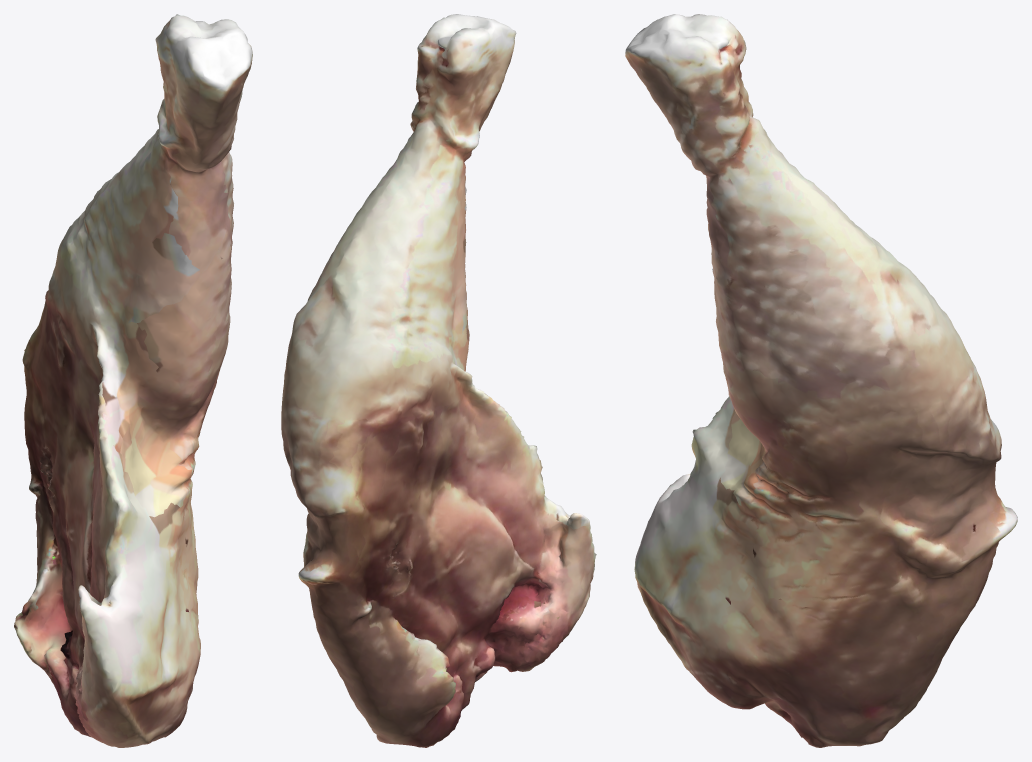
Rendered from Huhn_Schenkel_low.fbx.
3 renders of one model, left to right at view 1: azimuth 30°, elevation 25°; view 2: azimuth 150°, elevation 25°; view 3: azimuth 270°, elevation 25°, orthographic. The views are drawn at different scales.
Visible parts, largest first — view 1: Huhn_Schenkel_tex_low; view 2: Huhn_Schenkel_tex_low; view 3: Huhn_Schenkel_tex_low.
Boxes of the visible parts, x1,y1,x2,y2 form: Huhn_Schenkel_tex_low: (14,14,252,747); Huhn_Schenkel_tex_low: (281,14,596,747); Huhn_Schenkel_tex_low: (625,14,1017,747).
Bounding box in the file's own units: 7.96 × 25.31 × 12.43.
Materials: 1 (1 with a texture image).
